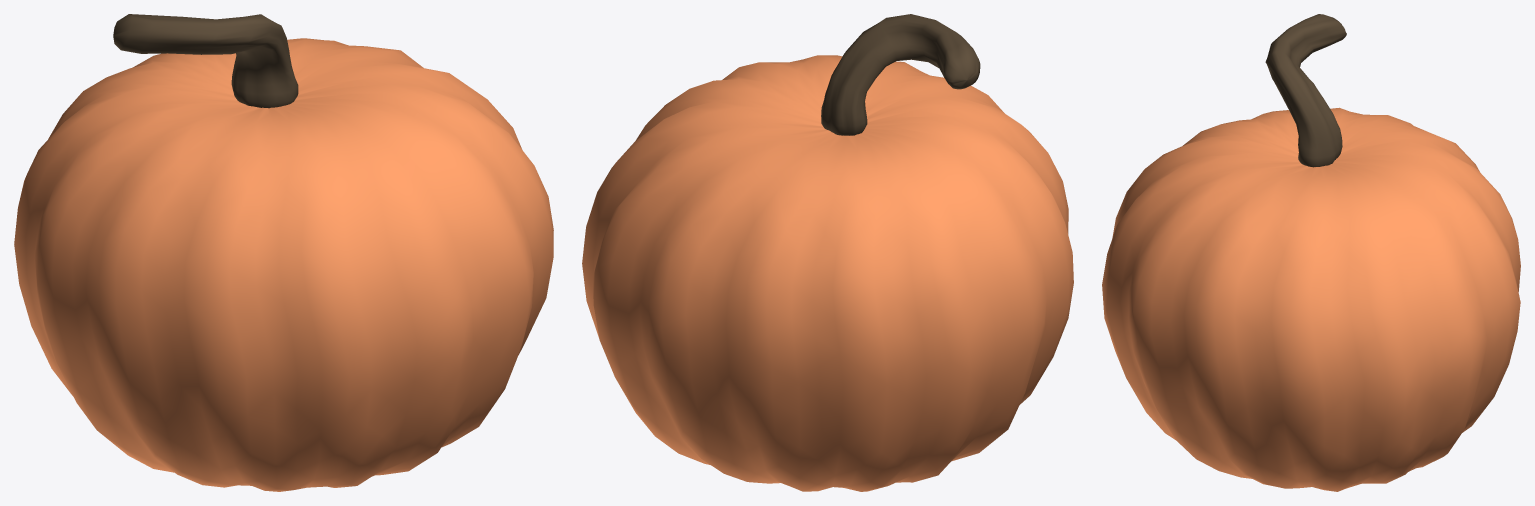
Rendered from Kabak2.fbx.
3 views of the same model, side by side, from view 1: azimuth 30°, elevation 25°; view 2: azimuth 150°, elevation 25°; view 3: azimuth 270°, elevation 25° (orthographic). The views are drawn at different scales.
Parts seen in each view (by area): view 1: Kabak, KabakSap; view 2: Kabak, KabakSap; view 3: Kabak, KabakSap.
Boxes of the visible parts, x1=… form: Kabak: x1=14, y1=38, x2=553, y2=491; KabakSap: x1=113, y1=14, x2=298, y2=108; Kabak: x1=582, y1=55, x2=1073, y2=491; KabakSap: x1=821, y1=14, x2=980, y2=135; Kabak: x1=1102, y1=107, x2=1520, y2=491; KabakSap: x1=1265, y1=14, x2=1346, y2=167.
Bounding box in the file's own units: 66.79 × 62.92 × 64.1.
